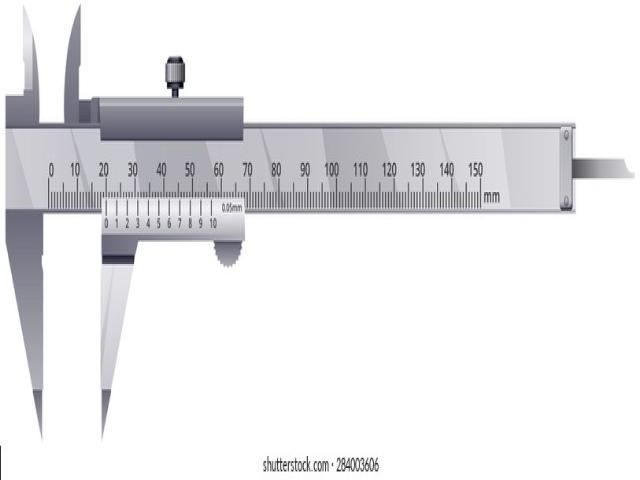Calipers: (5, 11, 630, 421)
